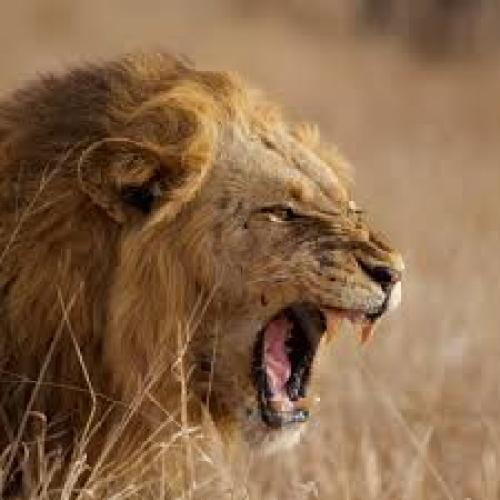lion-endangered: (0, 44, 407, 462)
